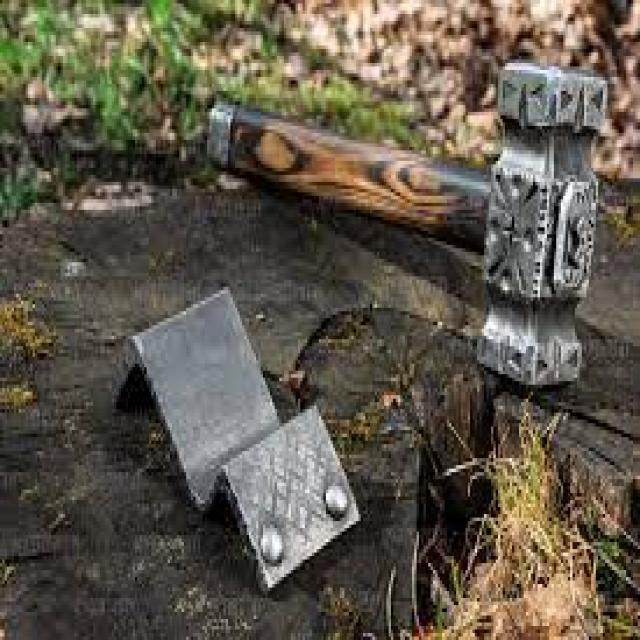hammer: (201, 49, 611, 392)
